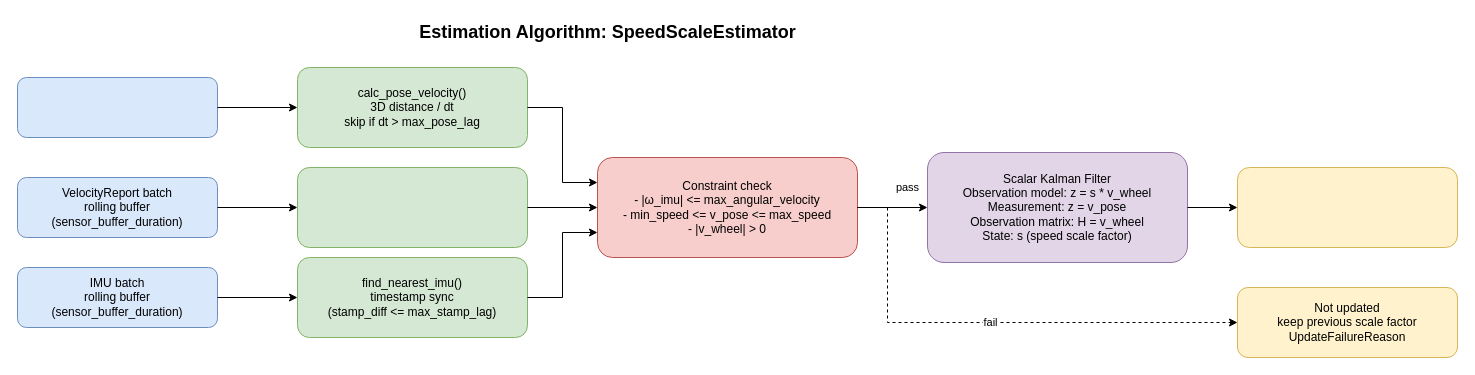
Some shapes in this 1475 by 375 pixel diagram are drawn without their labels. The shapes that lost their labels are listed below. From the top down, each one's box as (x1, y1, x2, y2) in pixels, then its label:
(16, 76, 218, 138): Pose (current / previous) from polling buffer
(296, 166, 528, 248): find_nearest_velocity_report() timestamp sync (stamp_diff <= max_stamp_lag)
(1236, 166, 1458, 248): Updated result estimated_speed_scale_factor covariance, K, v_pose, v_wheel
